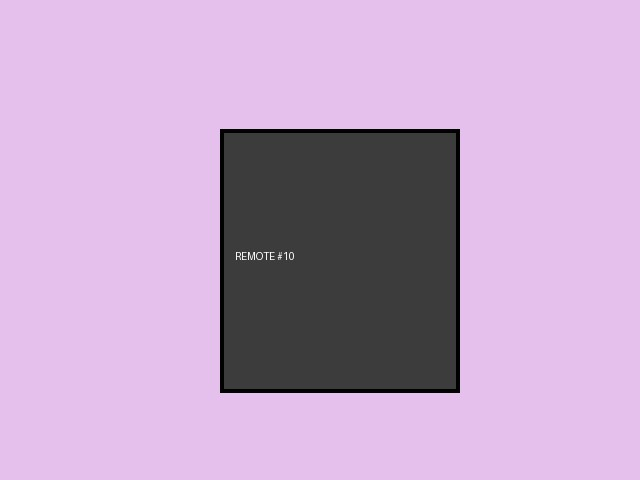remote: (220, 129, 459, 392)
